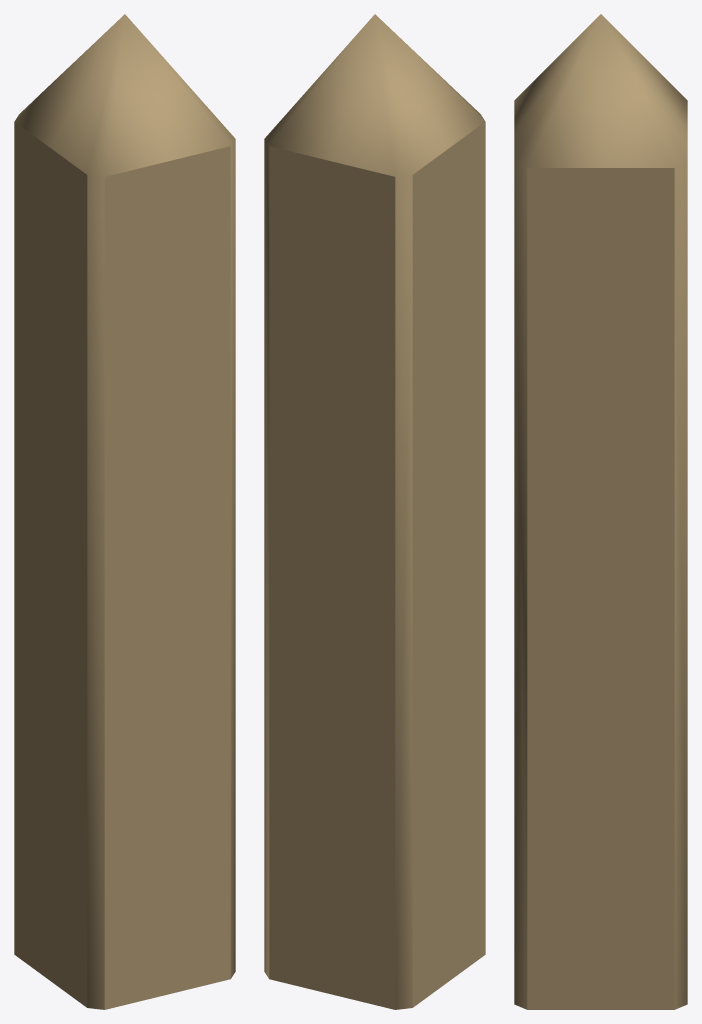
Rendered from Obelisk_Koltz_3_V1.fbx.
The picture shows the model from 3 angles, left to right: view 1: azimuth 30°, elevation 25°; view 2: azimuth 150°, elevation 25°; view 3: azimuth 270°, elevation 25°; orthographic projection.
Parts seen in each view (by area): view 1: Obelisk_3; view 2: Obelisk_3; view 3: Obelisk_3.
Boxes of the visible parts, box(x1,y1,x2,y2) form: Obelisk_3: box(14, 14, 235, 1009); Obelisk_3: box(264, 14, 485, 1009); Obelisk_3: box(514, 14, 687, 1009).
Size of the model in its own units: 4.6 by 28.13 by 4.6.
